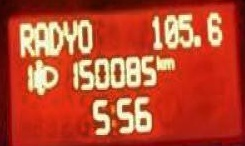-: (193, 29, 203, 48)
0: (93, 55, 109, 90), (162, 11, 177, 48), (109, 53, 124, 88)
1: (149, 11, 162, 50), (26, 61, 32, 93), (71, 58, 77, 89)
5: (90, 96, 109, 135), (115, 94, 133, 133), (177, 9, 193, 48), (78, 56, 93, 90), (140, 53, 155, 86)
6: (205, 9, 223, 48), (133, 93, 150, 133)
8: (124, 53, 139, 86)
X: (17, 18, 33, 56), (47, 18, 63, 54), (78, 16, 93, 53), (63, 16, 77, 53), (33, 18, 47, 54), (160, 55, 174, 70), (109, 101, 114, 126), (154, 53, 161, 69)
